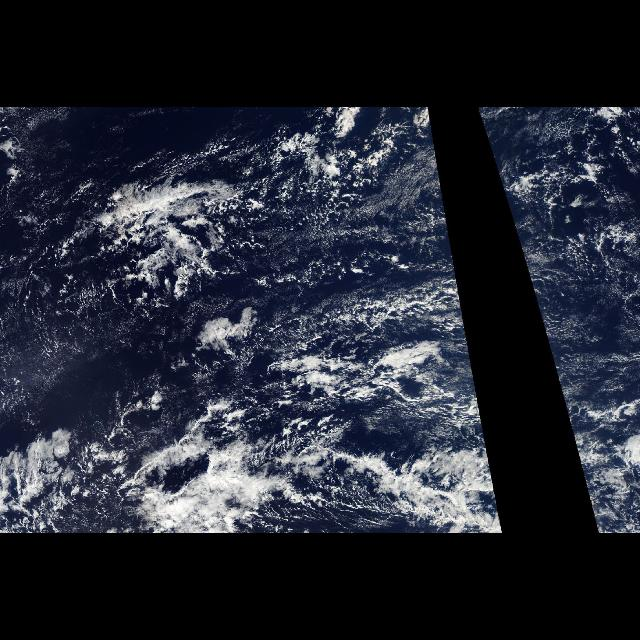Gravel: (197, 124, 409, 260), (529, 118, 635, 282)
Sugar: (2, 277, 120, 411)
